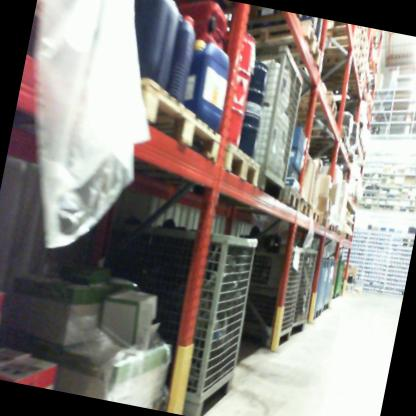pallet: (118, 57, 235, 165), (241, 11, 337, 86), (294, 76, 348, 123), (213, 140, 267, 186), (301, 114, 354, 156), (324, 27, 365, 67), (304, 137, 354, 168), (284, 186, 316, 218), (280, 181, 303, 208), (304, 201, 324, 225), (321, 209, 338, 236), (316, 208, 332, 231), (347, 277, 363, 294)
stillage: (68, 199, 272, 416), (225, 36, 318, 205), (230, 230, 308, 360), (283, 237, 324, 343)
